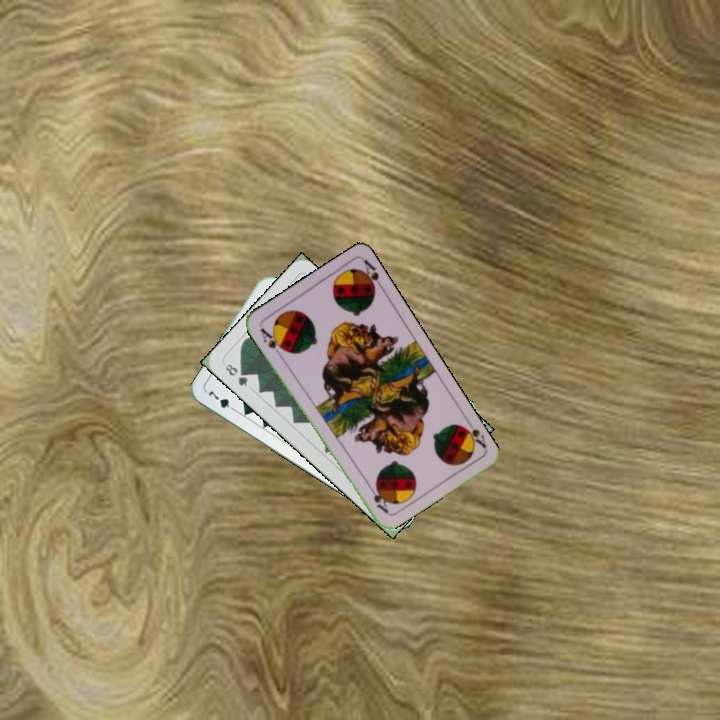G7: (204, 385, 239, 415)
G8: (220, 359, 251, 389)
SA: (455, 415, 489, 451), (256, 323, 288, 359)
